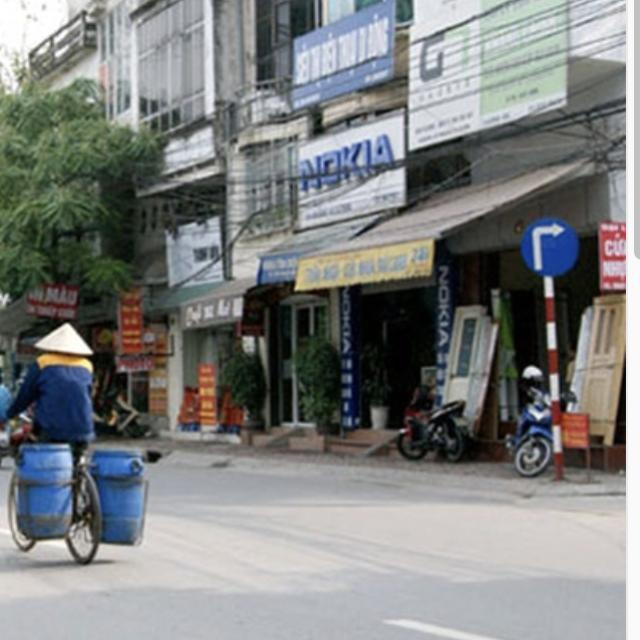301d-cac-xe-chi-duoc-re-phai-2: (522, 216, 576, 276)
